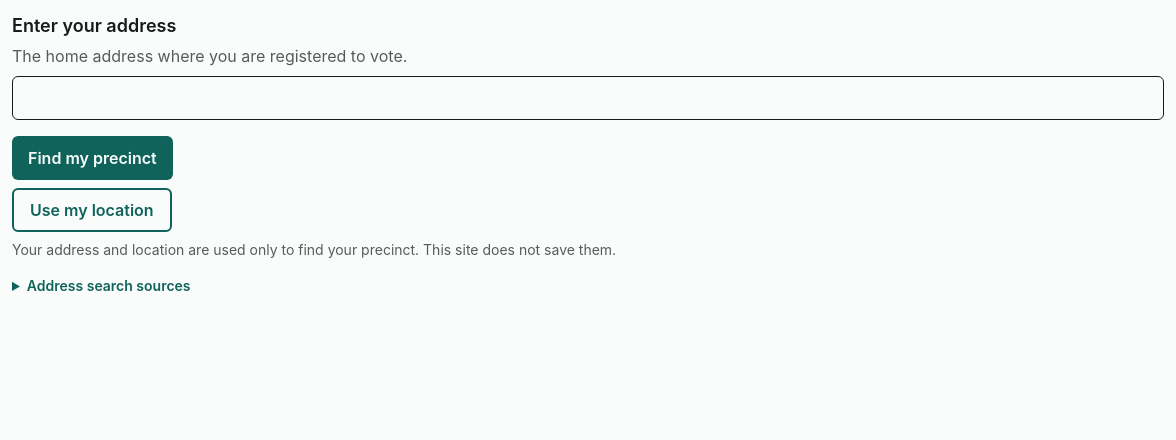
Test: AddressLookup › says address search is unavailable when the geocoder cannot be reached
This screenshot has width=1176, height=440.
Type "7700 Fine Rd, Saint Louis, MO 63129" into the dropdown labelled "Enter your address" at coordinates (588, 98), box [12,76,1164,120]
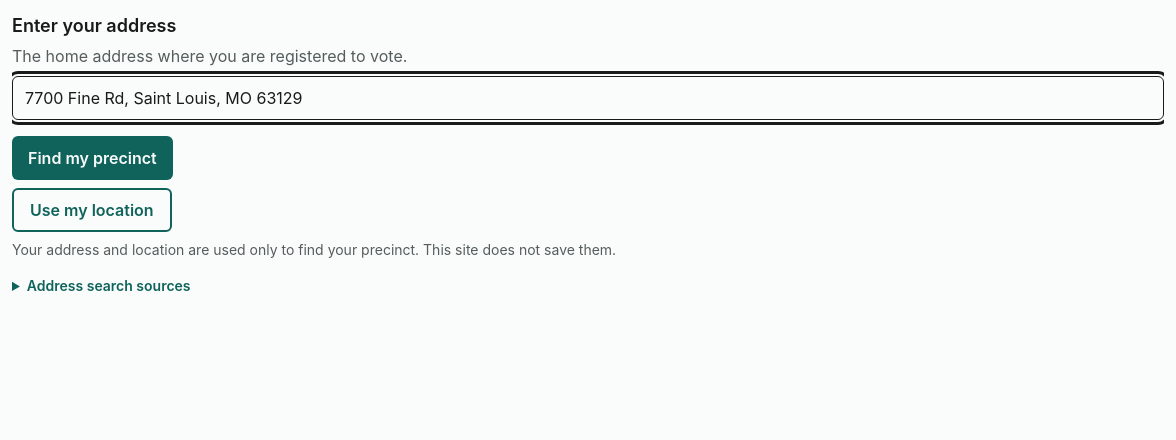
Click the button "Find my precinct" at coordinates (92, 158), box [12,136,173,180]
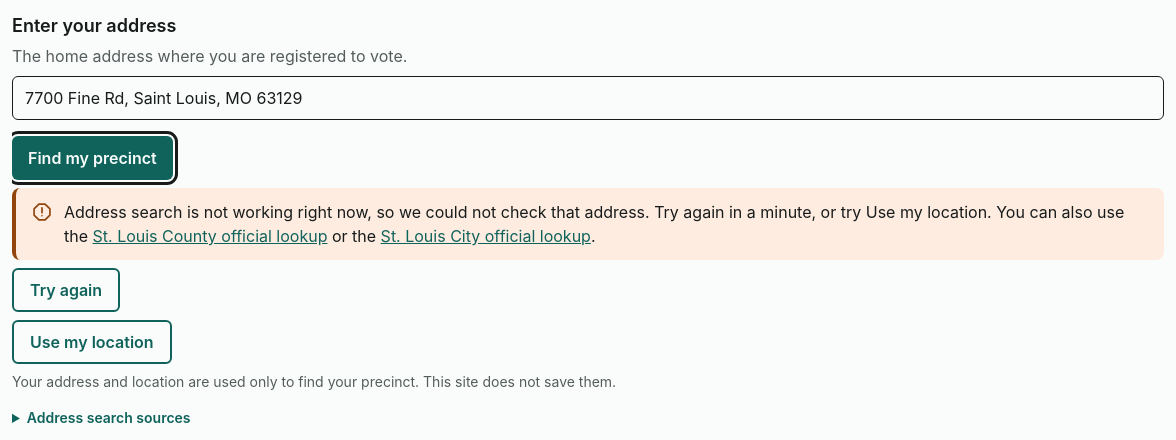
Check: the text "Address search is not working right now, so we could not check that address. Try again in a minute, or try Use my locati" shows "Use my location", box [64,202,992,222]
